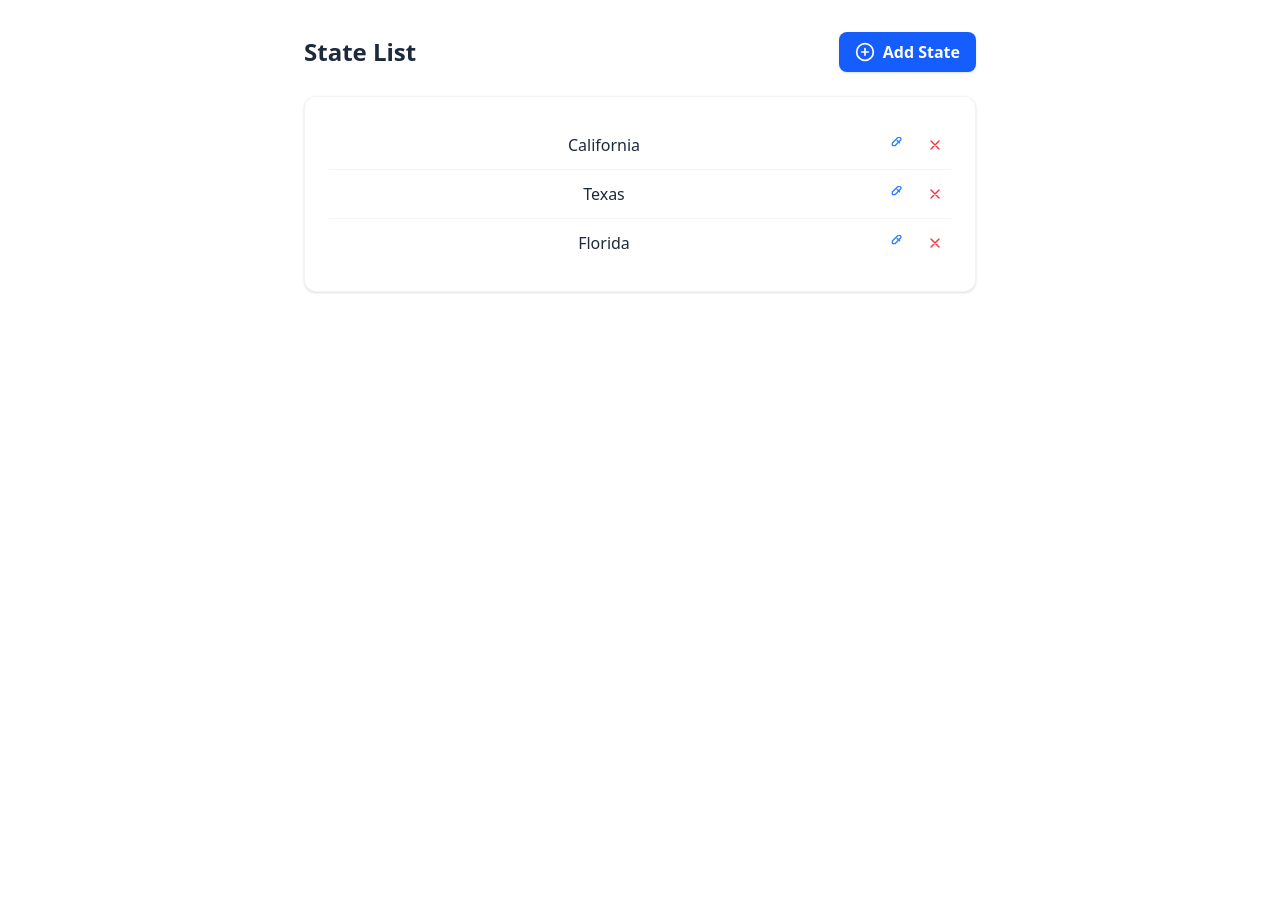
Test: StateSelector › should open add modal when add button is clicked
What coordinates should you click on to do the following:
click the button "Add State"
I would click on:
 (907, 52)
Its box is [839,32,976,72].
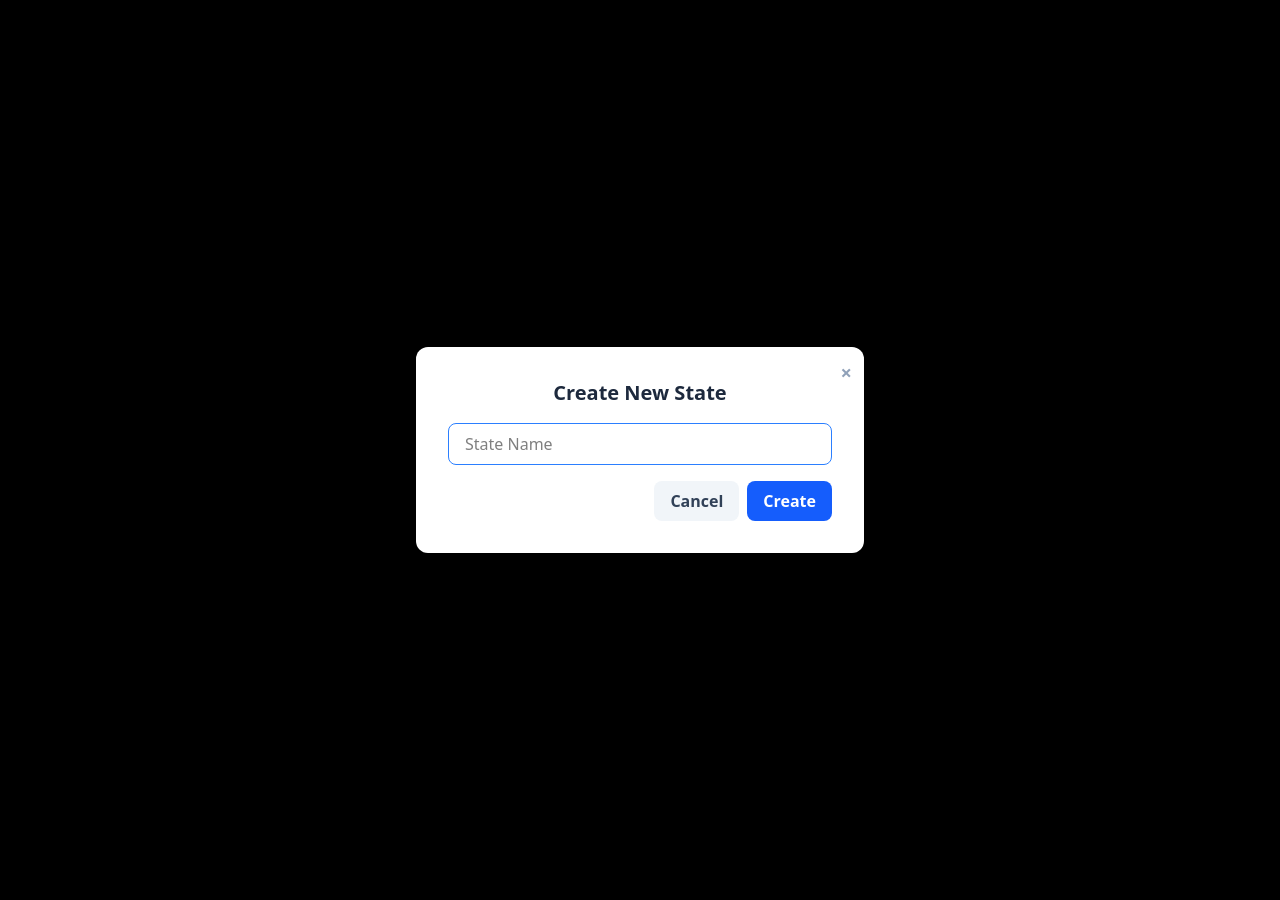
Result: the heading "Create New State" is shown at [553,379,727,406]
